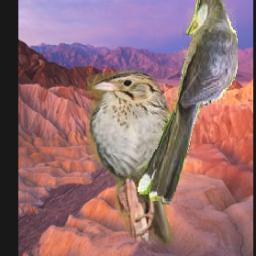Cuckoo: (137, 0, 239, 204)
Sparrow: (88, 68, 181, 245)
